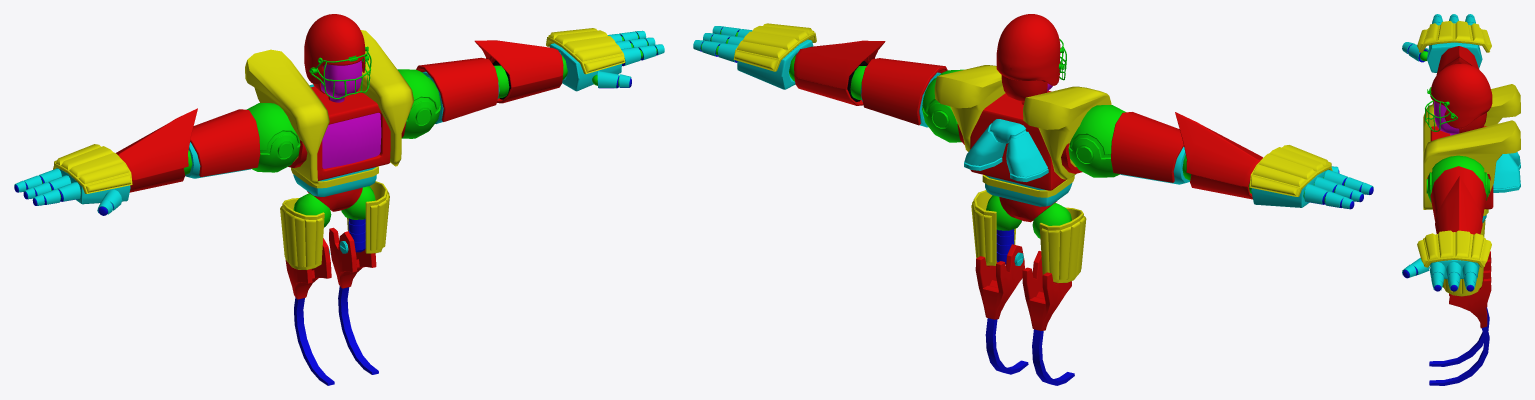
Rendered from FootBallRobot.fbx.
The picture shows the model from 3 angles, left to right: view 1: azimuth 30°, elevation 25°; view 2: azimuth 150°, elevation 25°; view 3: azimuth 270°, elevation 25°; orthographic projection. The views are drawn at different scales.
Visible parts, largest first — view 1: FootballRobot; view 2: FootballRobot; view 3: FootballRobot.
Part boxes in pixels (x1,y1,x2,y2): FootballRobot: (14, 14, 664, 385); FootballRobot: (693, 14, 1373, 385); FootballRobot: (1402, 14, 1520, 385).
Bounding box in the file's own units: 498 × 265 × 92.22.
